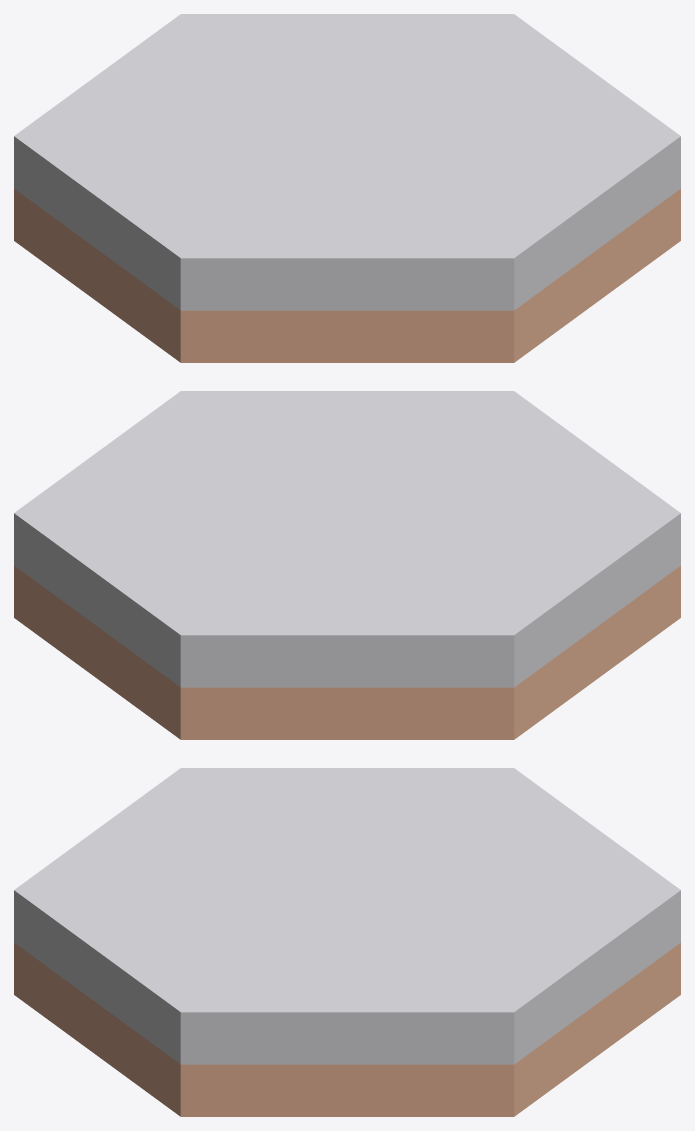
The model's file is pavement_high.fbx.
3 views of the same model, one above another, from view 1: azimuth 30°, elevation 25°; view 2: azimuth 150°, elevation 25°; view 3: azimuth 270°, elevation 25° (orthographic).
Visible parts, largest first — view 1: pavement_high.002; view 2: pavement_high.002; view 3: pavement_high.002.
Part boxes in pixels (box(x1,y1,x2,y2)): pavement_high.002: box(14, 14, 680, 362); pavement_high.002: box(14, 391, 680, 739); pavement_high.002: box(14, 768, 680, 1116).
Size of the model in its own units: 100 by 20 by 115.
